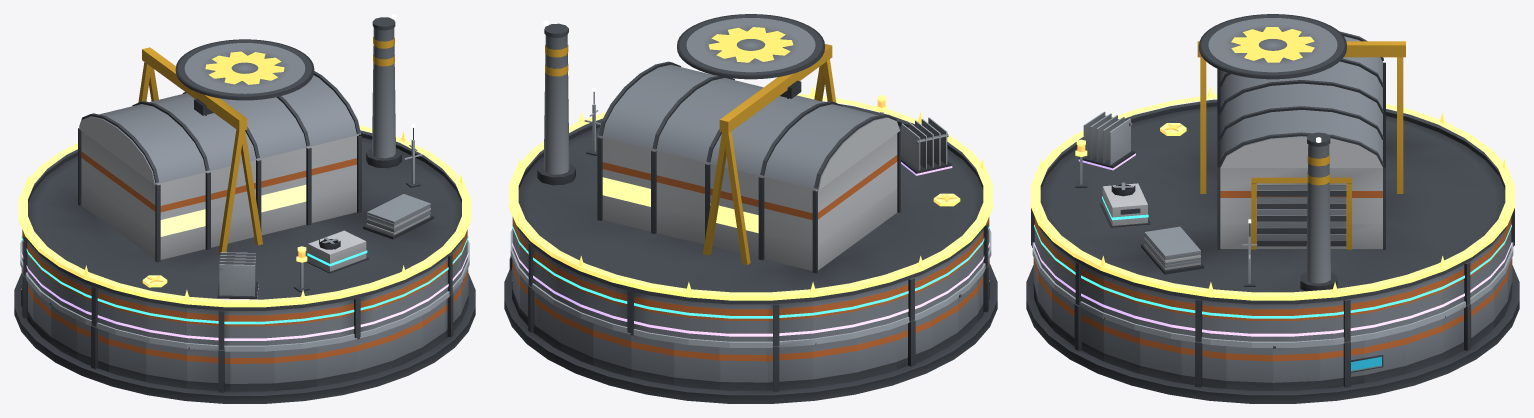
The model's file is fabricator_s.glb.
3 views of the same model, side by side, from view 1: azimuth 30°, elevation 25°; view 2: azimuth 150°, elevation 25°; view 3: azimuth 270°, elevation 25° (orthographic). The views are drawn at different scales.
Parts seen in each view (by area): view 1: Roof, Base, L3, Wall_21, L4, Wall_20, Wall_22, Wall_19, Wall_23, Wall_18, Wall_24, Upper_20 (+22 smaller); view 2: Roof, Base, L4, Wall_10, Wall_11, Wall_09, Wall_12, Wall_08, Wall_13, Wall_07, Upper_11, Upper_10 (+23 smaller); view 3: Roof, Base, L4, Wall_00, Wall_31, Wall_30, Wall_01, Wall_29, L3, Upper_01, Upper_30, Upper_00 (+23 smaller).
Boxes of the visible parts, x1,y1,x2,y2 form: Roof: [26, 14, 463, 310]; Base: [14, 273, 475, 403]; L3: [306, 230, 369, 273]; Wall_21: [230, 351, 274, 391]; L4: [217, 252, 258, 299]; Wall_20: [187, 347, 230, 392]; Wall_22: [274, 346, 316, 390]; Wall_19: [146, 342, 186, 388]; Wall_23: [317, 339, 356, 386]; Wall_18: [108, 332, 145, 381]; Wall_24: [357, 328, 392, 378]; Upper_20: [187, 308, 230, 349]; Roof: [517, 14, 984, 304]; Base: [504, 264, 997, 403]; L4: [901, 117, 952, 175]; Wall_10: [719, 347, 766, 390]; Wall_11: [766, 345, 812, 391]; Wall_09: [674, 343, 719, 389]; Wall_12: [813, 338, 856, 387]; Wall_08: [630, 333, 673, 385]; Wall_13: [856, 327, 896, 380]; Wall_07: [593, 323, 631, 376]; Upper_11: [766, 301, 812, 346]; Upper_10: [720, 303, 766, 341]; Roof: [1039, 14, 1506, 304]; Base: [1026, 265, 1519, 403]; L4: [1078, 111, 1135, 170]; Wall_00: [1273, 346, 1319, 390]; Wall_31: [1226, 346, 1272, 390]; Wall_30: [1181, 340, 1226, 388]; Wall_01: [1319, 340, 1364, 388]; Wall_29: [1140, 331, 1181, 382]; L3: [1100, 182, 1150, 227]; Upper_01: [1319, 297, 1364, 341]; Upper_30: [1181, 297, 1226, 341]; Upper_00: [1273, 302, 1319, 341].
Bounding box in the file's own units: 12.95 × 7.38 × 12.95.
